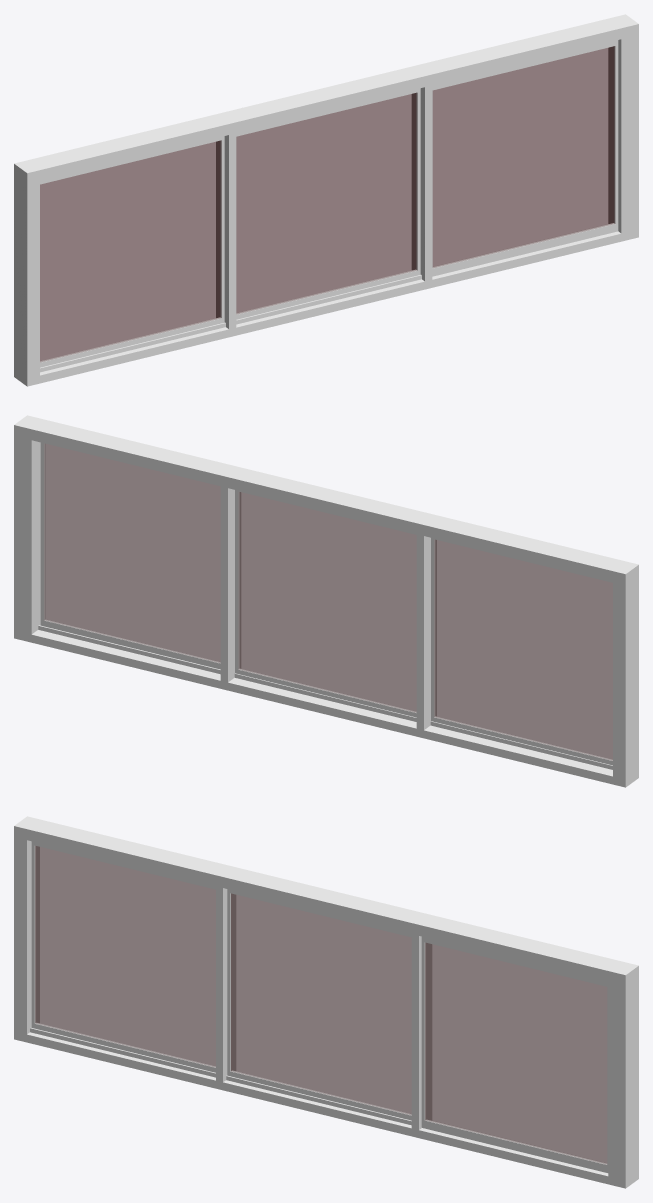
File: Wall With Windows Set 8.FBX
3 views of the same model, one above another, from view 1: azimuth 30°, elevation 25°; view 2: azimuth 150°, elevation 25°; view 3: azimuth 330°, elevation 25° (orthographic).
Parts seen in each view (by area): view 1: wall with windows set 8; view 2: wall with windows set 8; view 3: wall with windows set 8.
Part boxes in pixels (x1,y1,x2,y2): wall with windows set 8: (14, 14, 638, 386); wall with windows set 8: (14, 415, 638, 787); wall with windows set 8: (14, 816, 638, 1188).
Size of the model in its own units: 400 by 133 by 15.
